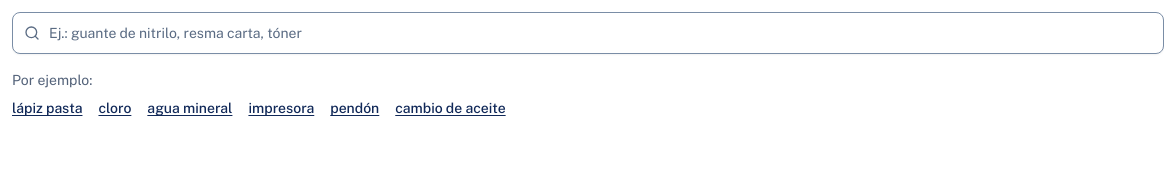
Scenario: buscador de productos › con menos de tres letras pide escribir más, sin resultados
Type "pc" into the search field named "buscar un producto" at (588, 33), box [12, 12, 1164, 54]
Wait 300 ms
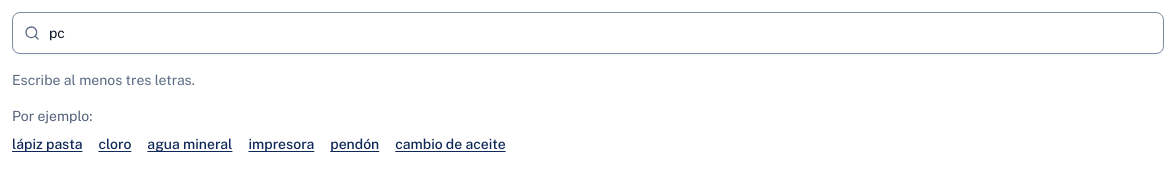
Now the text "Escribe al menos tres letras." is shown, box [12, 72, 195, 88]
